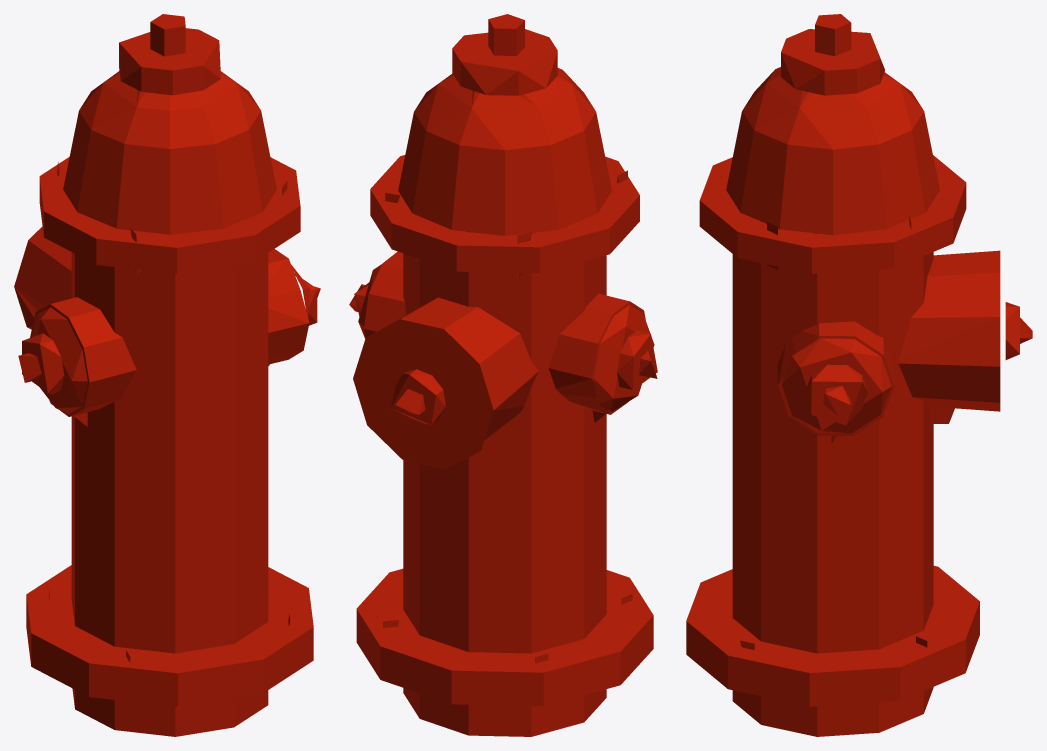
The model's file is fire-hydrant.glb.
3 renders of one model, left to right at view 1: azimuth 30°, elevation 25°; view 2: azimuth 150°, elevation 25°; view 3: azimuth 270°, elevation 25°, orthographic.
Visible parts, largest first — view 1: FireHydrant; view 2: FireHydrant; view 3: FireHydrant.
Boxes of the visible parts, <box> form: FireHydrant: <box>14,14,320,736</box>; FireHydrant: <box>349,14,657,736</box>; FireHydrant: <box>686,14,1032,736</box>.
Size of the model in its own units: 107 by 233 by 109.
